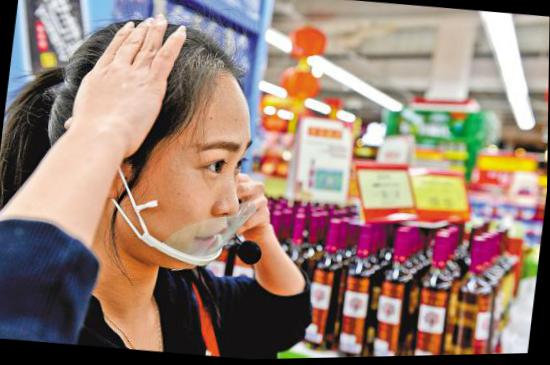WRONG: (99, 119, 257, 277)
